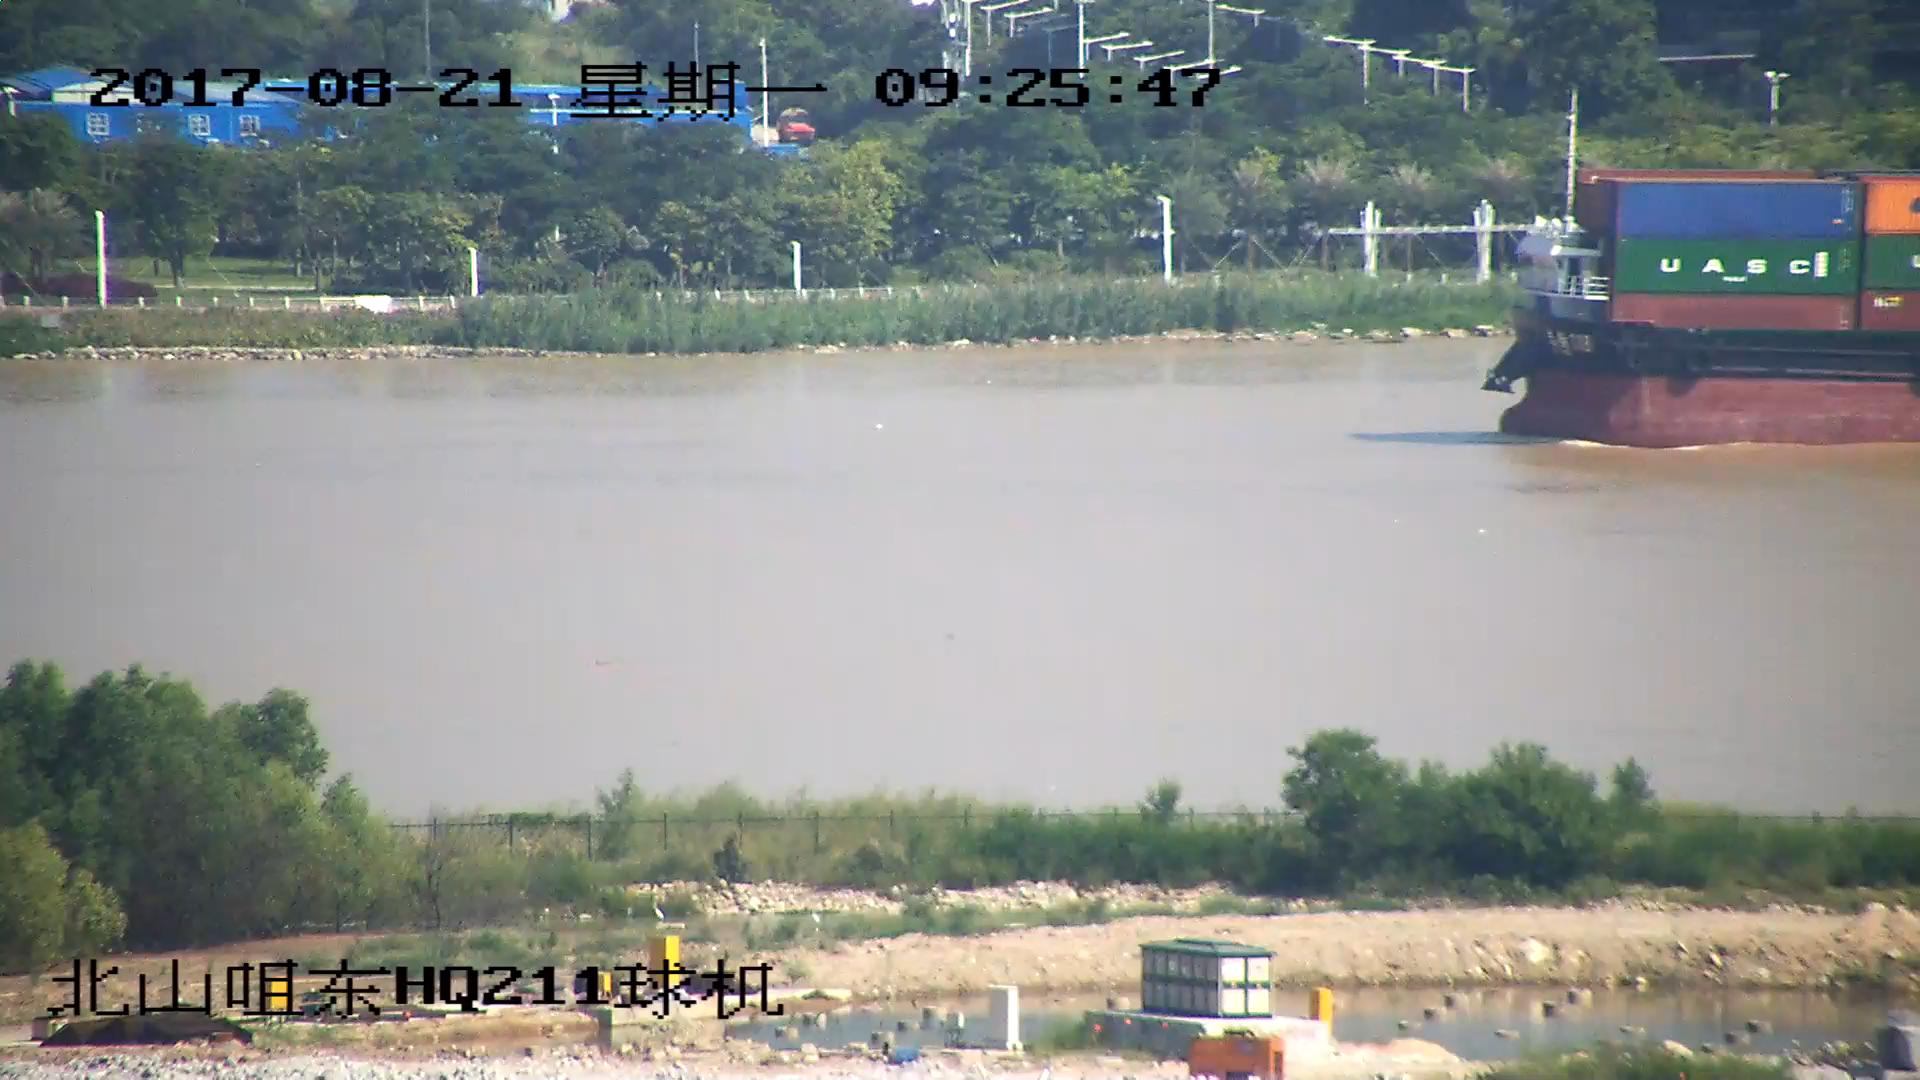container ship: (1482, 101, 1920, 445)
